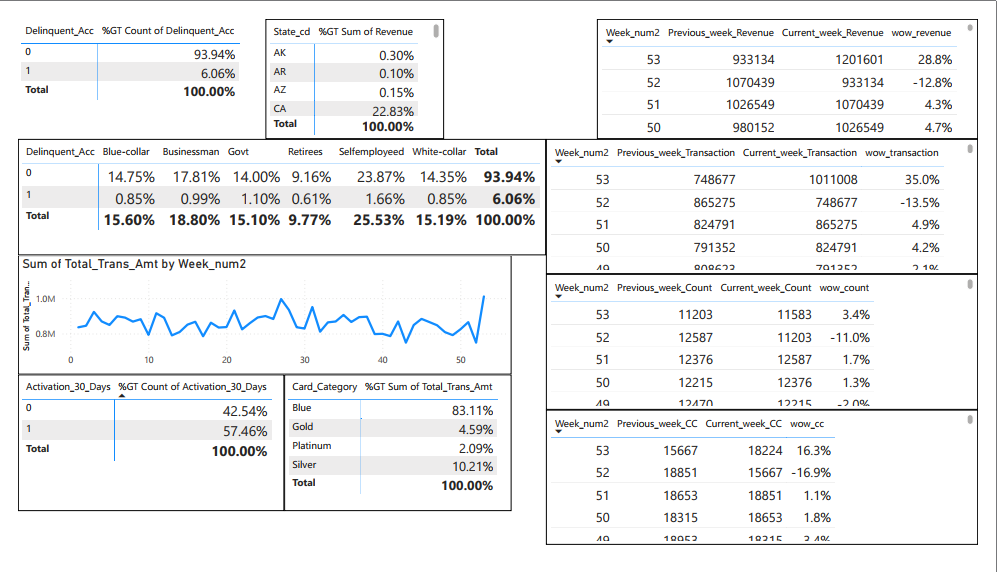

What the dashboard file says about the page in this screenshot:
{"tool":"powerbi","page":{"name":"Reports","canvas":[1280,720],"ordinal":2},"visuals":[{"type":"tableEx","fields":{"Values":["ccdb cc_details.Week_num2","ccdb cc_details.Previous_week_Reveneue","ccdb cc_details.Current_week_Reveneue","ccdb cc_details.wow_reveneue"]},"box":[772.4,0,507.6,159.8],"z":0},{"type":"lineChart","fields":{"Category":["ccdb cc_details.Week_num2","ccdb cc_details.Week_Start_Date.Variation.Date Hierarchy.Month","ccdb cc_details.Week_Start_Date.Variation.Date Hierarchy.Day"],"Y":["Sum(ccdb cc_details.Total_Trans_Amt)"]},"box":[0,315.2,658.5,158.3],"z":1000},{"type":"pivotTable","fields":{"Rows":["ccdb cc_details.Delinquent_Acc"],"Values":["Min(ccdb cc_details.Delinquent_Acc)"],"Columns":["ccdb cust_details.Customer_Job"]},"box":[0,159.8,704.4,155.4],"z":2000},{"type":"pivotTable","fields":{"Rows":["ccdb cc_details.Activation_30_Days"],"Values":["Sum(ccdb cc_details.Activation_30_Days)"]},"box":[0,473.5,355.1,182],"z":3000},{"type":"pivotTable","fields":{"Rows":["ccdb cust_details.State_cd"],"Values":["Sum(ccdb cc_details.Revenue)"]},"box":[330,0,238.2,159.8],"z":4000},{"type":"pivotTable","fields":{"Rows":["ccdb cc_details.Card_Category"],"Values":["Sum(ccdb cc_details.Total_Trans_Amt)"]},"box":[355.1,473.5,303.4,182],"z":5000},{"type":"pivotTable","fields":{"Rows":["ccdb cc_details.Delinquent_Acc"],"Values":["Min(ccdb cc_details.Delinquent_Acc)"]},"box":[0,0,312.2,140.6],"z":6000},{"type":"tableEx","fields":{"Values":["ccdb cc_details.Week_num2","ccdb cc_details.Previous_week_Transaction","ccdb cc_details.Current_week_Transaction","ccdb cc_details.wow_transactioin"]},"box":[704.4,159.8,575.6,180.5],"z":7000},{"type":"tableEx","fields":{"Values":["ccdb cc_details.Week_num2","ccdb cc_details.Previous_week_Count","ccdb cc_details.Current_week_Count","ccdb cc_details.wow_count"]},"box":[704.4,340.3,575.6,180.5],"z":8000},{"type":"tableEx","fields":{"Values":["ccdb cc_details.Week_num2","ccdb cc_details.Previous_week_CC","ccdb cc_details.Current_week_CC","ccdb cc_details.wow_cc"]},"box":[704.4,520.9,575.6,180.5],"z":9000}]}

Visuals, with their boxes in screenshot pixels (x1, y1, x2, y2), scaled from the page's 1280x720 canvas onto the 997x572 screenshot:
tableEx - ccdb cc_details.Week_num2 x ccdb cc_details.Previous_week_Reveneue: 602,0,996,127
lineChart - ccdb cc_details.Week_num2 x ccdb cc_details.Week_Start_Date.Variation.Date Hierarchy.Month: 0,250,513,376
pivotTable - ccdb cc_details.Delinquent_Acc x Min(ccdb cc_details.Delinquent_Acc): 0,127,549,250
pivotTable - ccdb cc_details.Activation_30_Days x Sum(ccdb cc_details.Activation_30_Days): 0,376,277,521
pivotTable - ccdb cust_details.State_cd x Sum(ccdb cc_details.Revenue): 257,0,443,127
pivotTable - ccdb cc_details.Card_Category x Sum(ccdb cc_details.Total_Trans_Amt): 277,376,513,521
pivotTable - ccdb cc_details.Delinquent_Acc x Min(ccdb cc_details.Delinquent_Acc): 0,0,243,112
tableEx - ccdb cc_details.Week_num2 x ccdb cc_details.Previous_week_Transaction: 549,127,996,270
tableEx - ccdb cc_details.Week_num2 x ccdb cc_details.Previous_week_Count: 549,270,996,414
tableEx - ccdb cc_details.Week_num2 x ccdb cc_details.Previous_week_CC: 549,414,996,557
